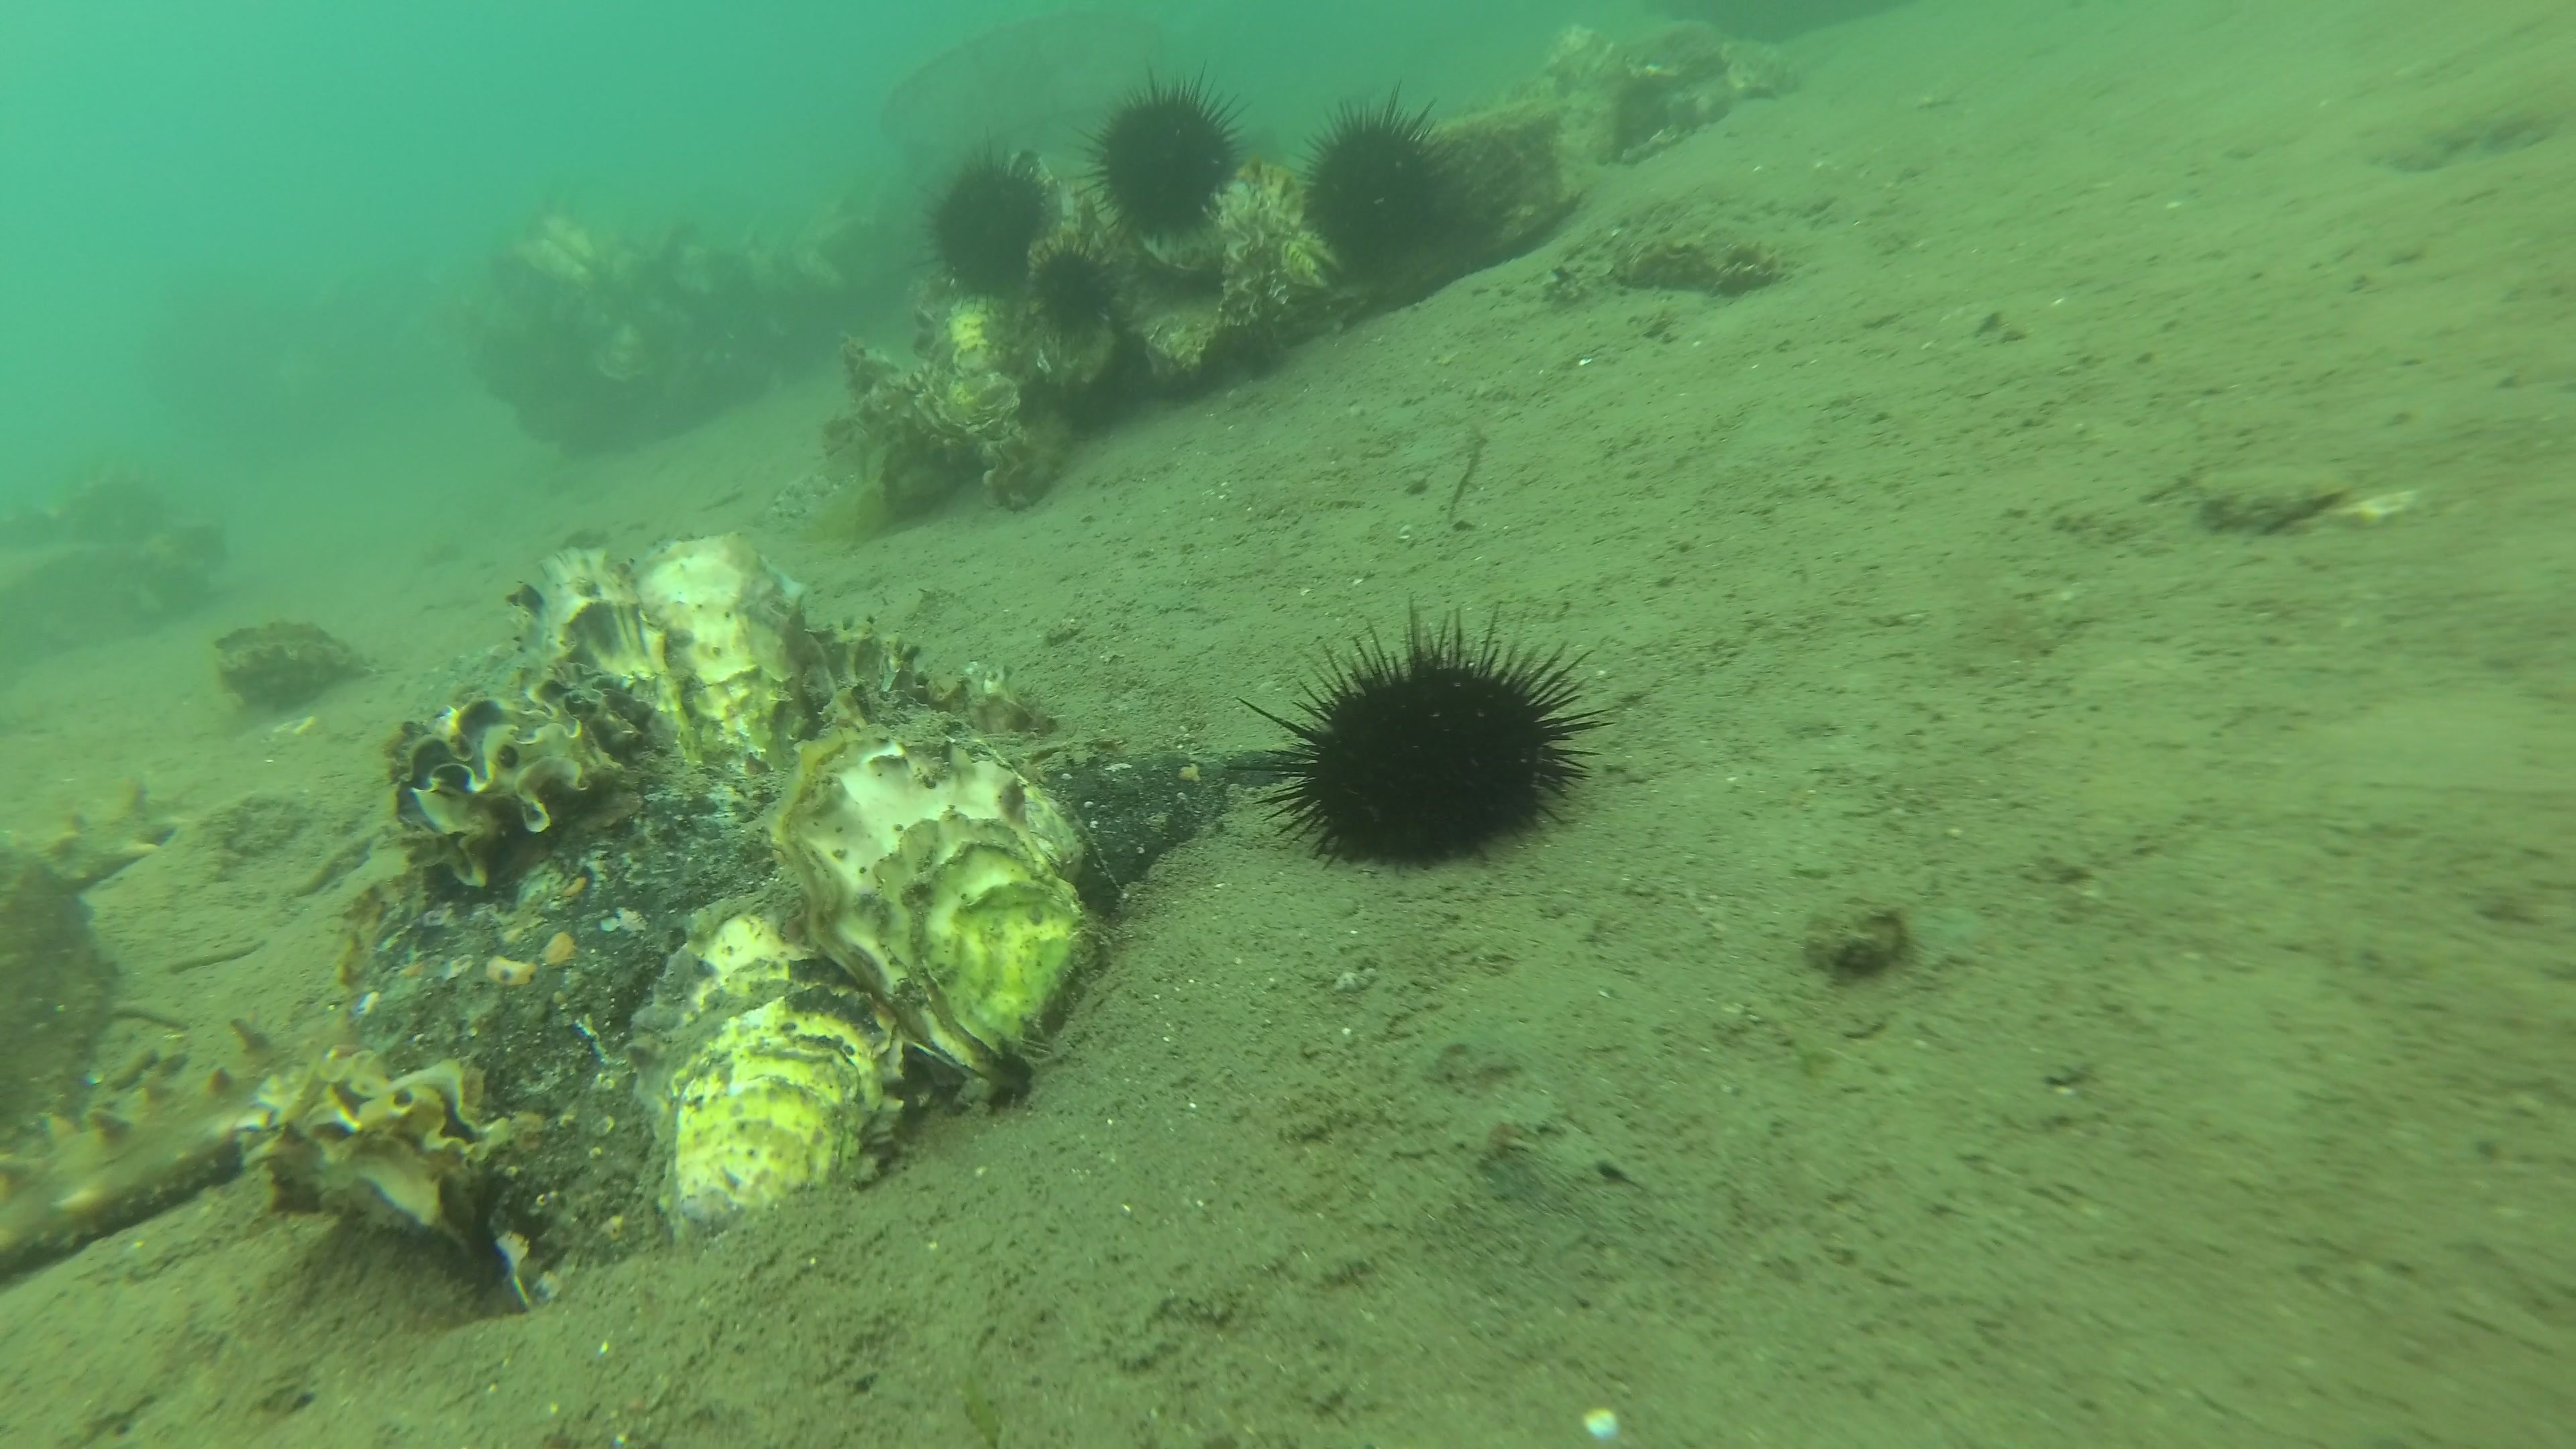echinus: (1221, 596, 1621, 872), (1069, 58, 1254, 255), (1290, 78, 1463, 272), (909, 126, 1062, 317), (1024, 234, 1122, 350)
holothurian: (0, 1007, 297, 1286), (39, 770, 196, 890)
